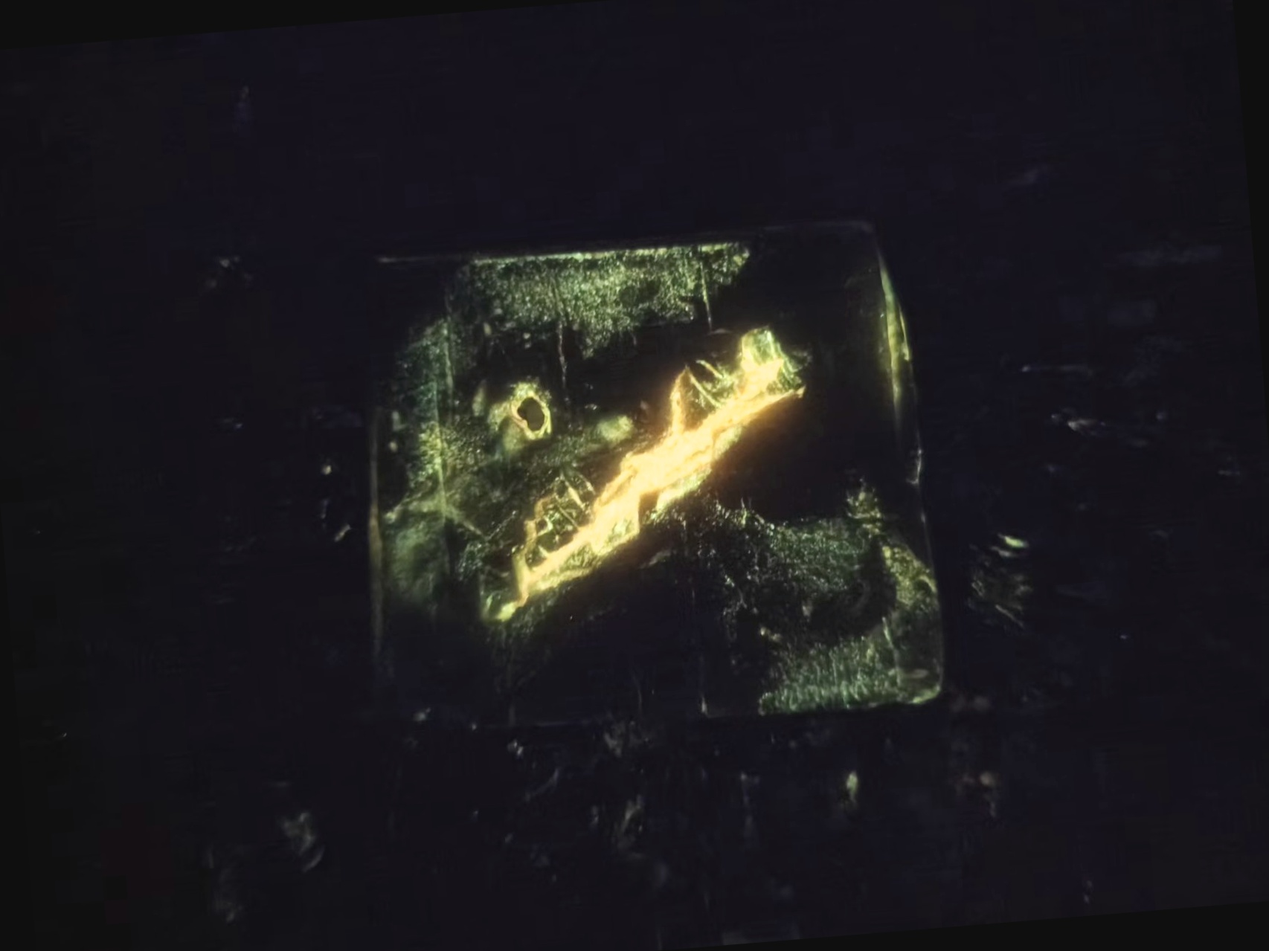Crater: (486, 370, 566, 453)
Fissure: (484, 330, 825, 611)
